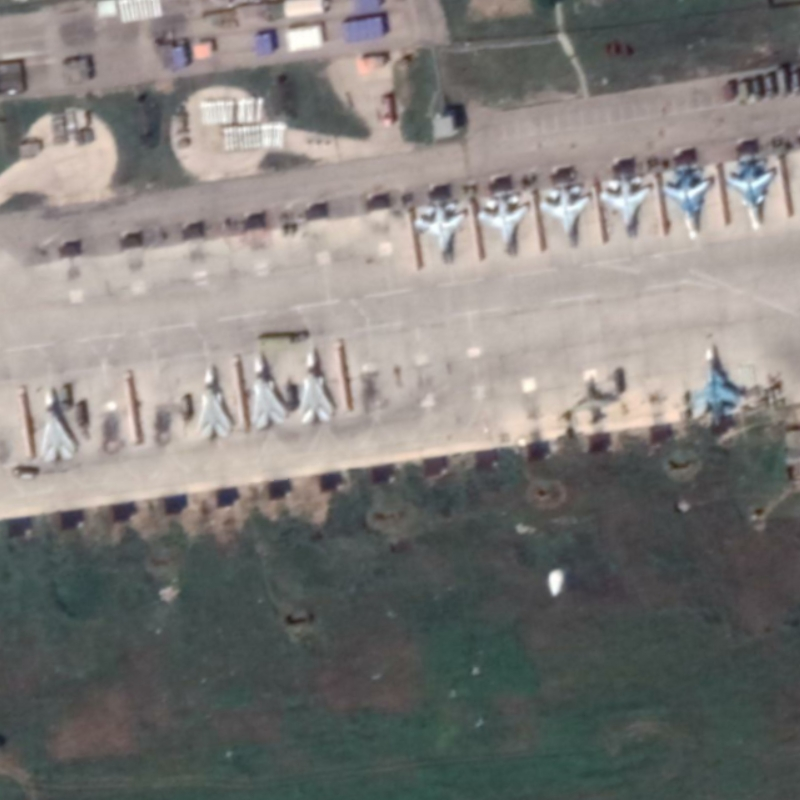A1: (596, 169, 652, 241), (537, 182, 593, 250), (475, 192, 531, 257), (413, 198, 467, 265)
A19: (689, 344, 742, 427), (661, 159, 712, 242), (724, 152, 776, 231)
A20: (249, 349, 290, 430), (38, 385, 79, 464), (295, 349, 337, 425), (193, 365, 234, 442)
